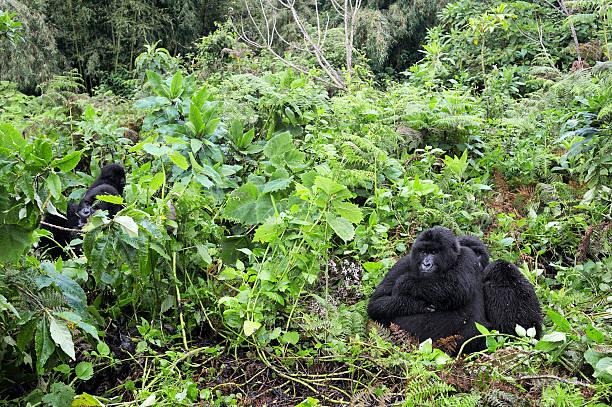goriile_montagne: (364, 228, 481, 354)
